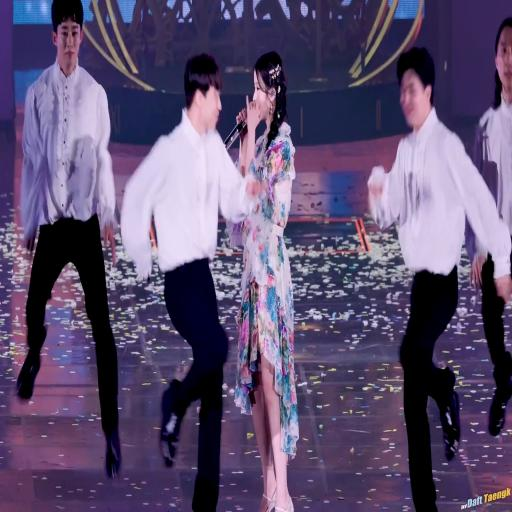IU: (253, 52, 287, 122)
